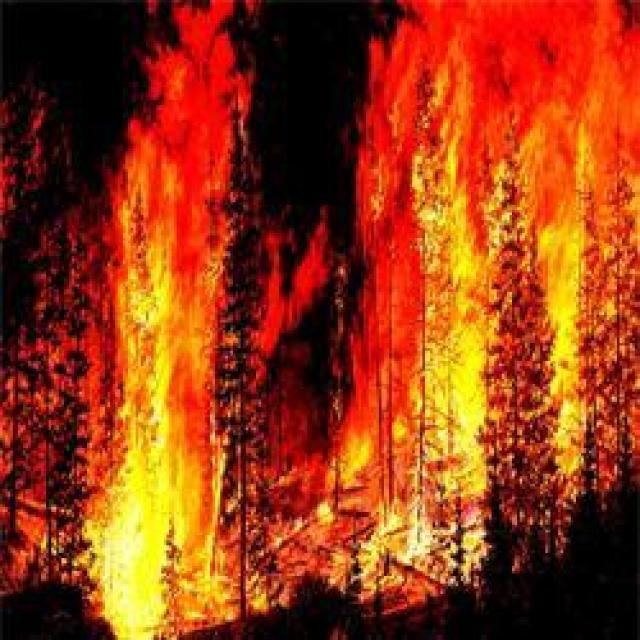Fire: (358, 39, 640, 640), (36, 181, 321, 640)
